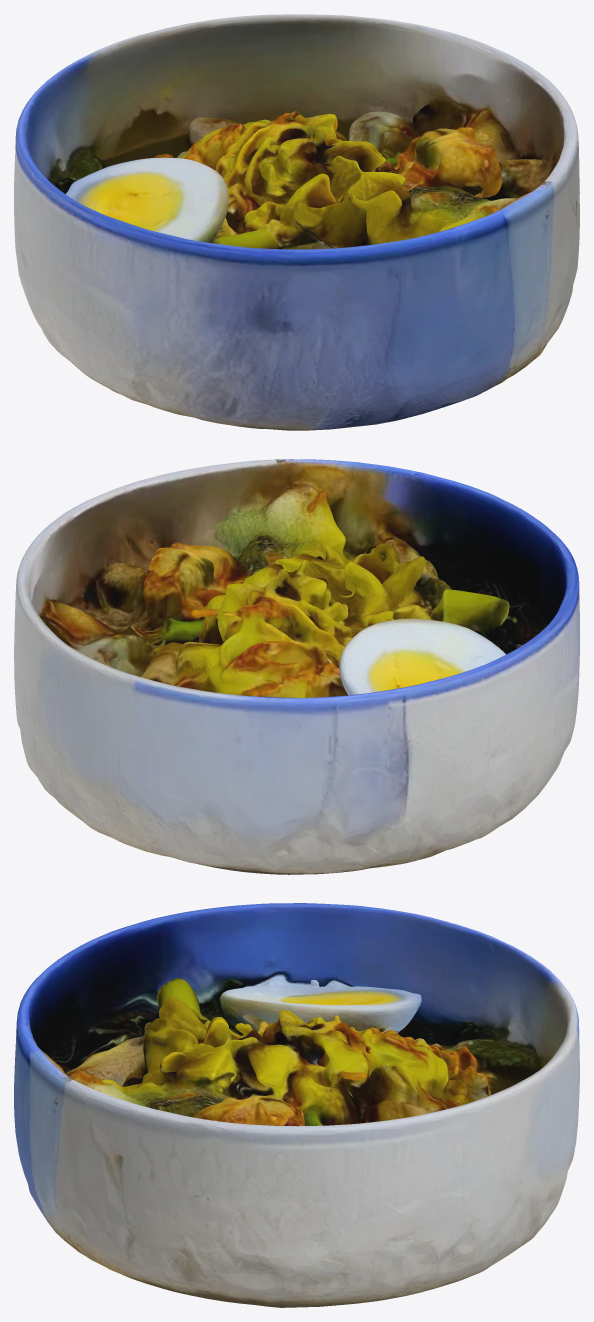
The model's file is rujak-soto.glb.
3 renders of one model, top to bottom at view 1: azimuth 30°, elevation 25°; view 2: azimuth 150°, elevation 25°; view 3: azimuth 270°, elevation 25°, orthographic.
Parts seen in each view (by area): view 1: Object_4; view 2: Object_4; view 3: Object_4.
Boxes of the visible parts, x1,y1,x2,y2 form: Object_4: (14, 14, 579, 430); Object_4: (14, 459, 579, 874); Object_4: (14, 903, 579, 1307).
Bounding box in the file's own units: 0.9842 × 0.4218 × 0.9999.
1 material, 1 textured.
